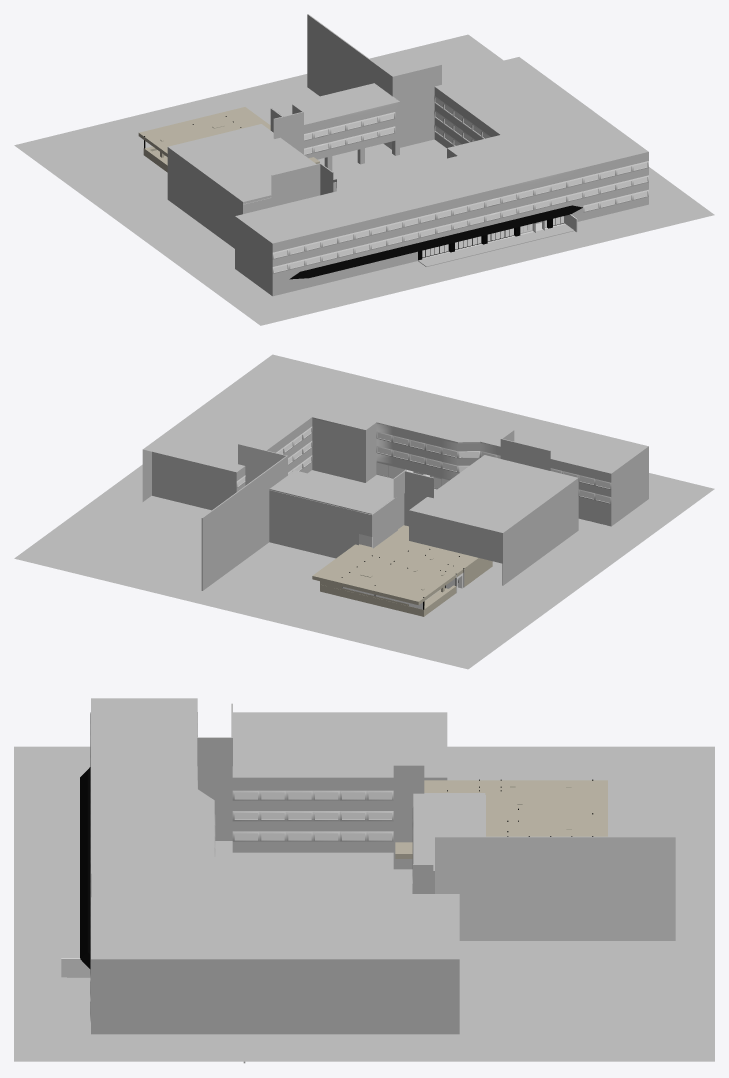
File: library.fbx
3 views of the same model, one above another, from view 1: azimuth 30°, elevation 25°; view 2: azimuth 150°, elevation 25°; view 3: azimuth 270°, elevation 25° (orthographic). The views are drawn at different scales.
Parts seen in each view (by area): view 1: pCube182, level5:pCube137; view 2: pCube182, level5:pCube137; view 3: pCube182, level5:pCube137.
Boxes of the visible parts, x1,y1,x2,y2 form: pCube182: (14, 14, 714, 325); level5:pCube137: (138, 107, 319, 172); pCube182: (14, 354, 714, 669); level5:pCube137: (312, 525, 492, 616); pCube182: (14, 698, 714, 1063); level5:pCube137: (395, 779, 607, 858).
Bounding box in the file's own units: 72643 × 14764 × 68320.
